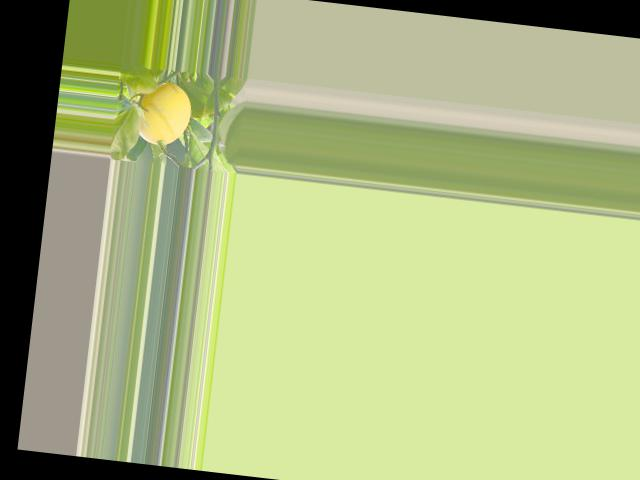lemon: (133, 78, 195, 152)
